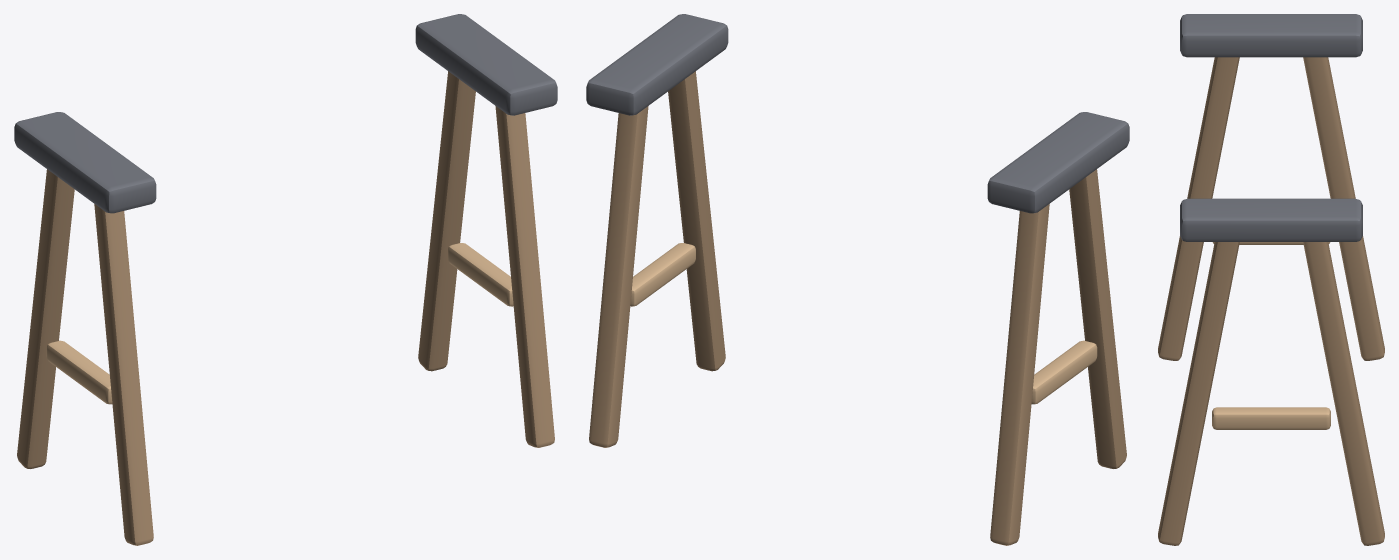
The model's file is ShapingStand.fbx.
The picture shows the model from 3 angles, left to right: view 1: azimuth 30°, elevation 25°; view 2: azimuth 150°, elevation 25°; view 3: azimuth 270°, elevation 25°; orthographic projection. The views are drawn at different scales.
Parts seen in each view (by area): view 1: ShapingStand; view 2: ShapingStand; view 3: ShapingStand.
Boxes of the visible parts, x1,y1,x2,y2 form: ShapingStand: (14,14,557,545); ShapingStand: (586,14,1129,545); ShapingStand: (1158,14,1384,545).
Size of the model in its own units: 1.24 by 0.9308 by 0.5702.
